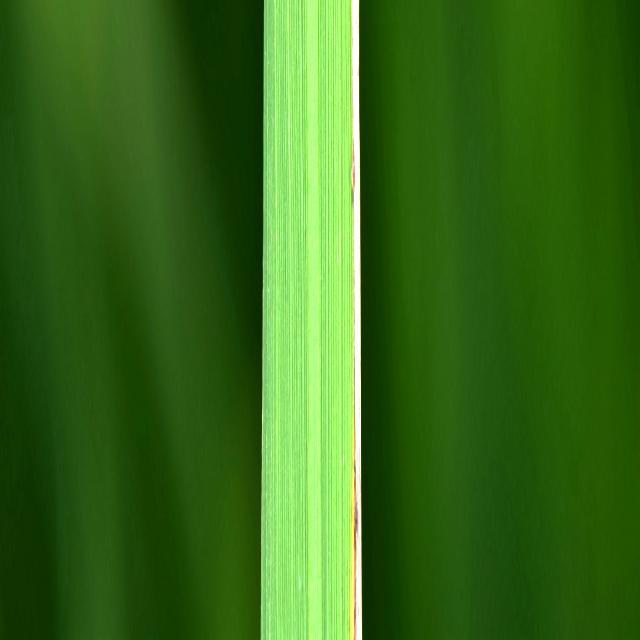BLB: (351, 0, 361, 637)
